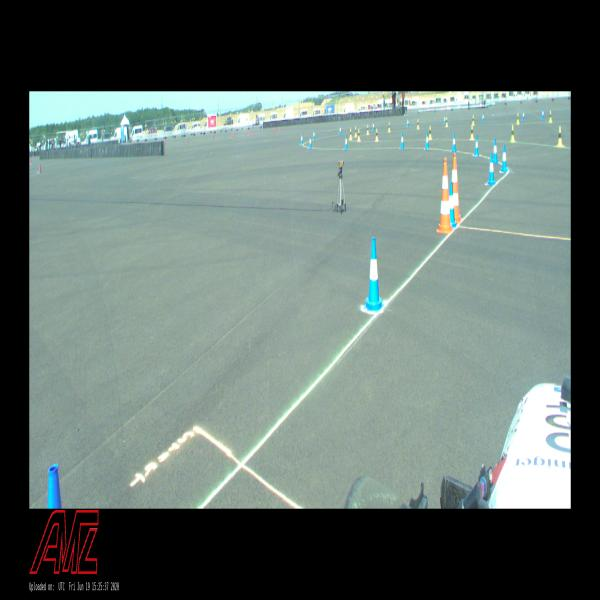blue_cone: (364, 238, 384, 309), (48, 466, 62, 508), (449, 183, 457, 227), (488, 153, 496, 185), (500, 145, 508, 171), (492, 140, 498, 162), (474, 136, 479, 156), (452, 133, 456, 152), (426, 132, 430, 150), (400, 132, 404, 149), (344, 135, 347, 150), (309, 135, 312, 149), (372, 121, 375, 130), (301, 134, 303, 144), (522, 110, 524, 120), (542, 109, 544, 119), (313, 130, 315, 140), (444, 115, 446, 124), (482, 113, 484, 122), (340, 126, 342, 135), (407, 118, 409, 127), (570, 110, 571, 118)
large_orange_cone: (436, 158, 454, 233), (452, 154, 462, 222)
unknown_cone: (39, 164, 41, 172), (249, 130, 251, 136), (233, 130, 234, 138), (30, 158, 31, 164), (164, 139, 165, 145), (187, 137, 188, 143), (213, 133, 214, 139), (245, 129, 246, 135), (253, 130, 254, 136), (273, 127, 274, 133), (279, 127, 280, 133)
yellow_cone: (557, 126, 563, 146), (510, 125, 515, 142), (470, 125, 474, 140), (375, 128, 379, 142), (428, 126, 432, 139), (357, 129, 361, 142), (549, 111, 552, 122), (516, 114, 519, 124), (350, 128, 352, 140), (355, 126, 357, 137), (417, 119, 419, 129), (388, 122, 390, 132), (367, 125, 369, 135), (472, 115, 474, 125), (446, 117, 448, 127)
